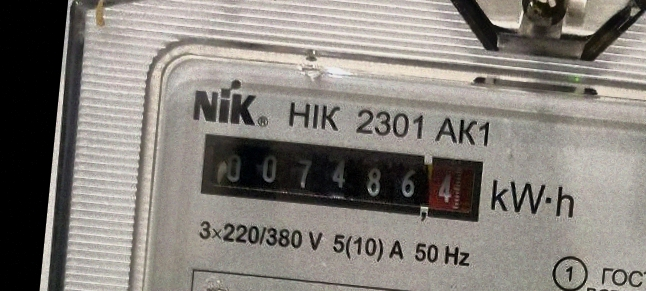0: (220, 149, 244, 184), (258, 150, 279, 185)
4: (326, 154, 348, 191), (433, 170, 454, 205)
6: (397, 166, 419, 200)
7: (289, 154, 315, 189)
8: (363, 164, 383, 200)
screen: (188, 121, 493, 234)
